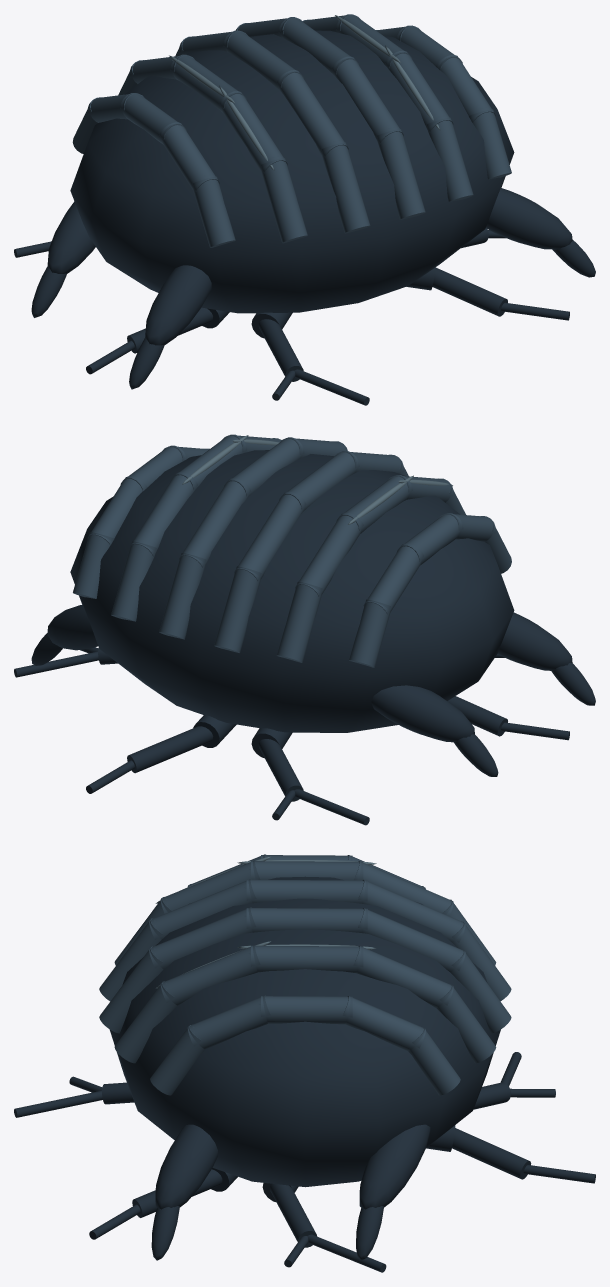
File: CMU3DHiveHiveCoreXenoConstructionNode.glb
3 renders of one model, top to bottom at view 1: azimuth 30°, elevation 25°; view 2: azimuth 150°, elevation 25°; view 3: azimuth 270°, elevation 25°, orthographic. The views are drawn at different scales.
Visible parts, largest first — view 1: low vaulted core, sweeping vaulted chitin plate (×23), lateral shoulder buttress (×6), sinuous anchoring root (×6); view 2: low vaulted core, sweeping vaulted chitin plate (×23), lateral shoulder buttress (×6), sinuous anchoring root (×9); view 3: low vaulted core, sweeping vaulted chitin plate (×23), lateral shoulder buttress (×4), sinuous anchoring root (×9).
Boxes of the visible parts, left/top/right/bottom form: low vaulted core: left=70, top=30, right=514, bottom=313; sweeping vaulted chitin plate (×23): left=72, top=14, right=511, bottom=247; lateral shoulder buttress (×6): left=31, top=188, right=595, bottom=389; sinuous anchoring root (×6): left=86, top=267, right=569, bottom=405; low vaulted core: left=70, top=450, right=514, bottom=732; sweeping vaulted chitin plate (×23): left=73, top=434, right=511, bottom=667; lateral shoulder buttress (×6): left=31, top=605, right=595, bottom=776; sinuous anchoring root (×9): left=14, top=651, right=569, bottom=825; low vaulted core: left=109, top=876, right=500, bottom=1187; sweeping vaulted chitin plate (×23): left=99, top=860, right=511, bottom=1095; lateral shoulder buttress (×4): left=151, top=1124, right=430, bottom=1260; sinuous anchoring root (×9): left=14, top=1082, right=595, bottom=1272.
Bounding box in the file's own units: 1.49 × 0.7212 × 1.48.
